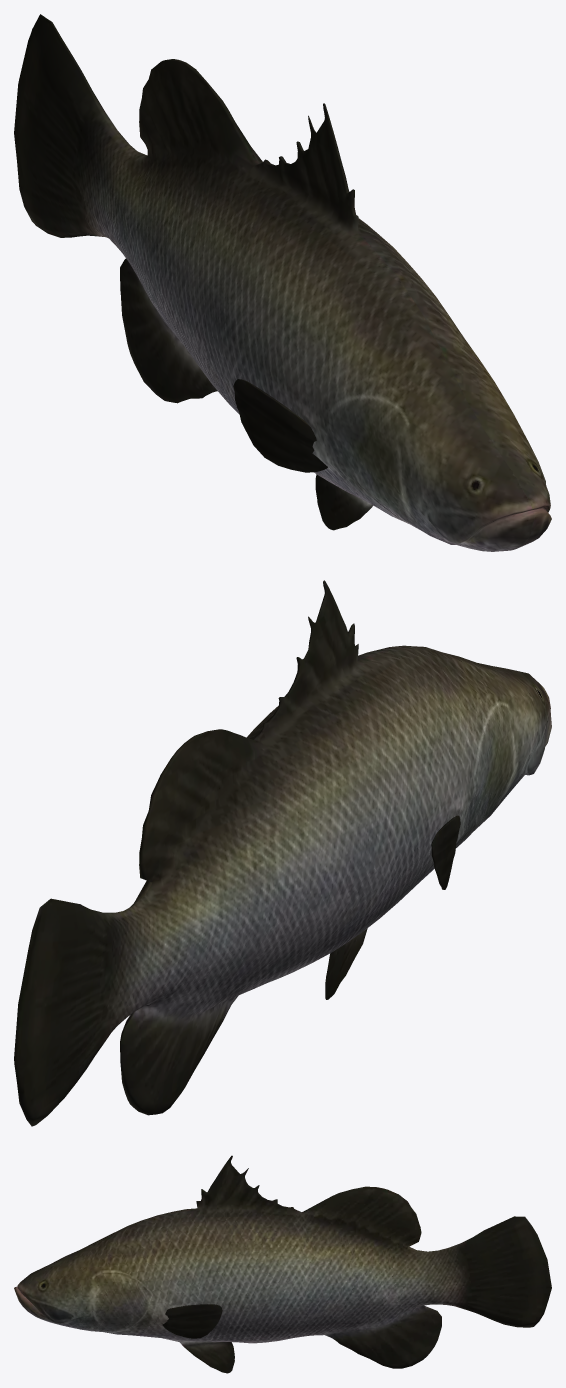
The model's file is fish.glb.
3 renders of one model, top to bottom at view 1: azimuth 30°, elevation 25°; view 2: azimuth 150°, elevation 25°; view 3: azimuth 270°, elevation 25°, orthographic. The views are drawn at different scales.
Visible parts, largest first — view 1: BarramundiFish; view 2: BarramundiFish; view 3: BarramundiFish.
Part boxes in pixels (x1=…): BarramundiFish: x1=14, y1=14, x2=551, y2=551; BarramundiFish: x1=14, y1=580, x2=551, y2=1126; BarramundiFish: x1=14, y1=1155, x2=551, y2=1373.
Bounding box in the file's own units: 0.1429 × 0.2875 × 0.6431.
Materials: 1 (1 with a texture image).
